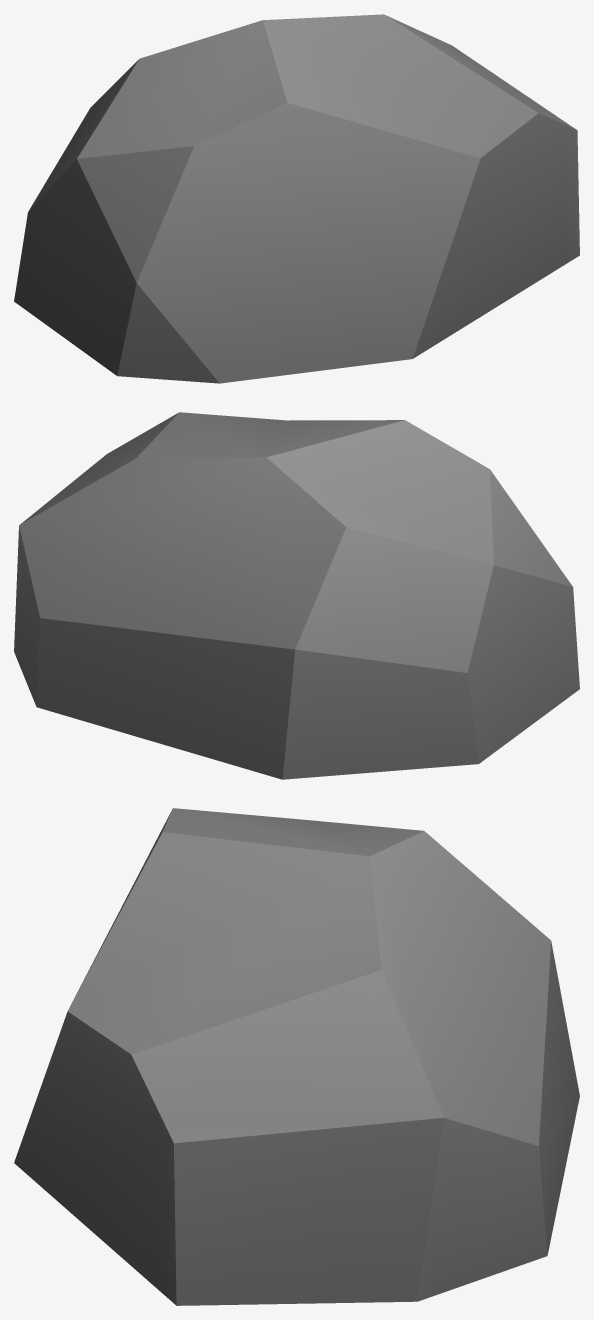
Rendered from stone small.fbx.
The picture shows the model from 3 angles, top to bottom: view 1: azimuth 30°, elevation 25°; view 2: azimuth 150°, elevation 25°; view 3: azimuth 270°, elevation 25°; orthographic projection. The views are drawn at different scales.
Visible parts, largest first — view 1: stone small; view 2: stone small; view 3: stone small.
Boxes of the visible parts, x1=… form: stone small: x1=14, y1=14, x2=579, y2=383; stone small: x1=14, y1=412, x2=579, y2=779; stone small: x1=14, y1=808, x2=579, y2=1305.
Size of the model in its own units: 156 by 75.13 by 128.
